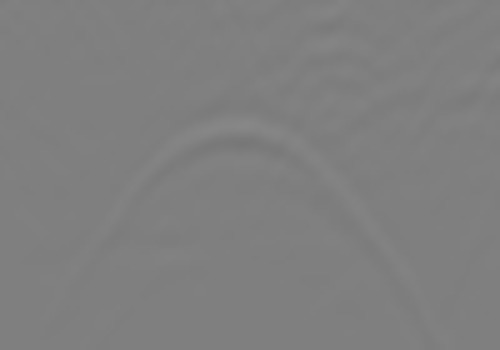hyperbola: (62, 115, 422, 310)
